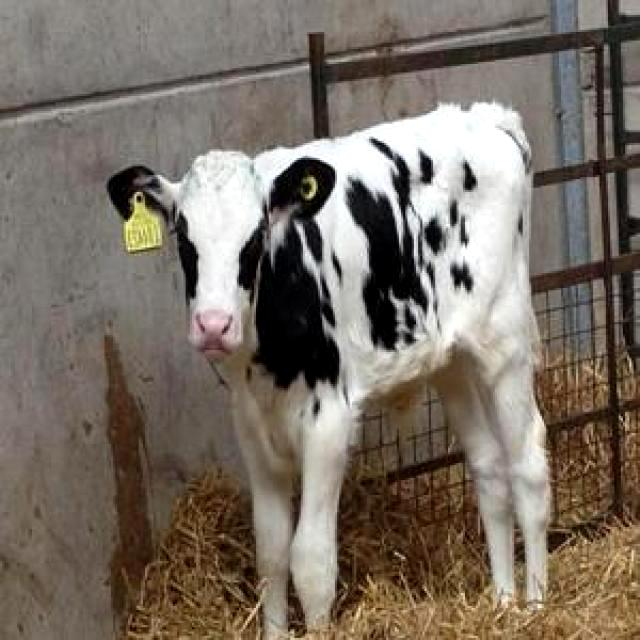COW: (108, 104, 550, 640)
